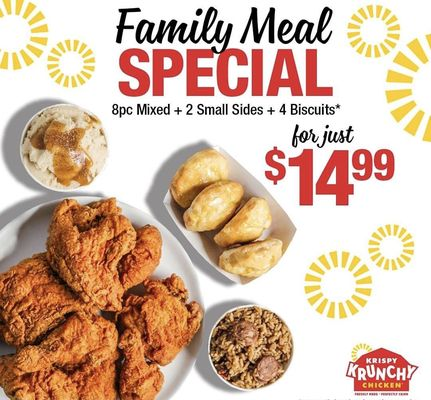sushi: (203, 302, 295, 392)
